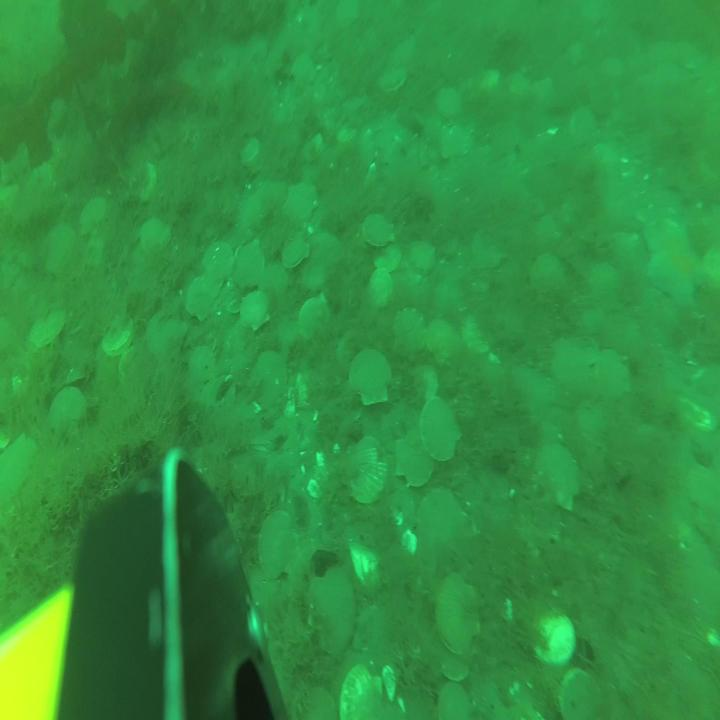scallop: (308, 565, 358, 658), (434, 568, 481, 656), (416, 487, 469, 563), (530, 438, 582, 514), (340, 430, 390, 508), (528, 605, 578, 669), (418, 394, 462, 464), (338, 656, 385, 720), (551, 333, 594, 401), (258, 511, 299, 581), (394, 426, 436, 491), (349, 346, 393, 407), (1, 433, 39, 498), (558, 669, 606, 720), (146, 306, 188, 360), (47, 386, 88, 441), (594, 343, 632, 402), (228, 448, 266, 502), (424, 314, 461, 368), (41, 222, 77, 277), (252, 351, 289, 404), (393, 306, 426, 364), (115, 344, 155, 391), (470, 224, 510, 270), (184, 272, 220, 322), (296, 293, 330, 345), (282, 178, 320, 224), (530, 252, 567, 299), (433, 680, 476, 720), (585, 262, 620, 310), (28, 308, 68, 349), (234, 238, 266, 289), (298, 679, 337, 720), (238, 288, 271, 333), (460, 314, 495, 356), (567, 105, 599, 150), (203, 238, 235, 282), (101, 320, 136, 360), (78, 193, 109, 238), (138, 214, 172, 255), (336, 326, 362, 377), (362, 210, 395, 250), (280, 230, 311, 272), (368, 266, 394, 310), (259, 261, 291, 296), (418, 358, 440, 408), (189, 345, 217, 384), (409, 238, 437, 276), (371, 241, 402, 275), (434, 85, 464, 120), (438, 654, 472, 684), (290, 54, 318, 90), (700, 243, 720, 290), (378, 67, 410, 95), (334, 1, 361, 34), (532, 70, 554, 110), (138, 161, 158, 205), (507, 67, 532, 102), (240, 133, 262, 169), (302, 129, 324, 165), (601, 51, 626, 82), (479, 64, 501, 97), (334, 124, 359, 148)
starfish: (642, 208, 705, 309)
